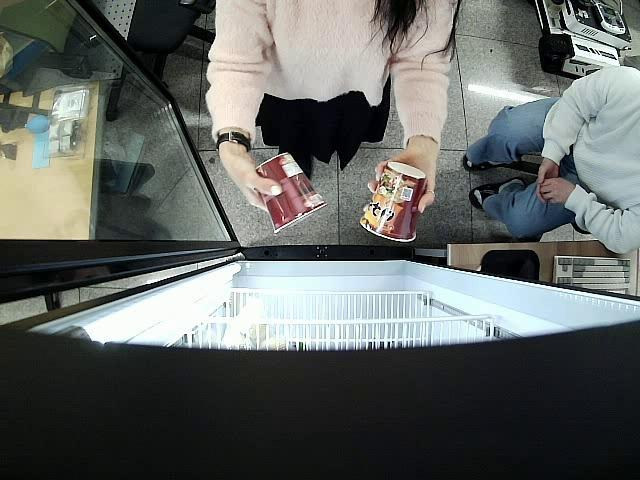06_nuguri_S: (254, 153, 326, 233), (360, 161, 426, 243)
